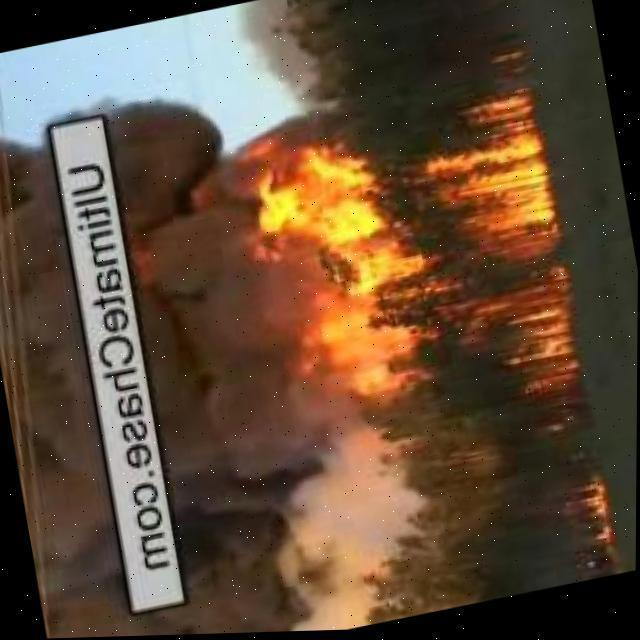fire: (250, 135, 438, 393), (437, 95, 587, 383), (570, 471, 622, 573)
